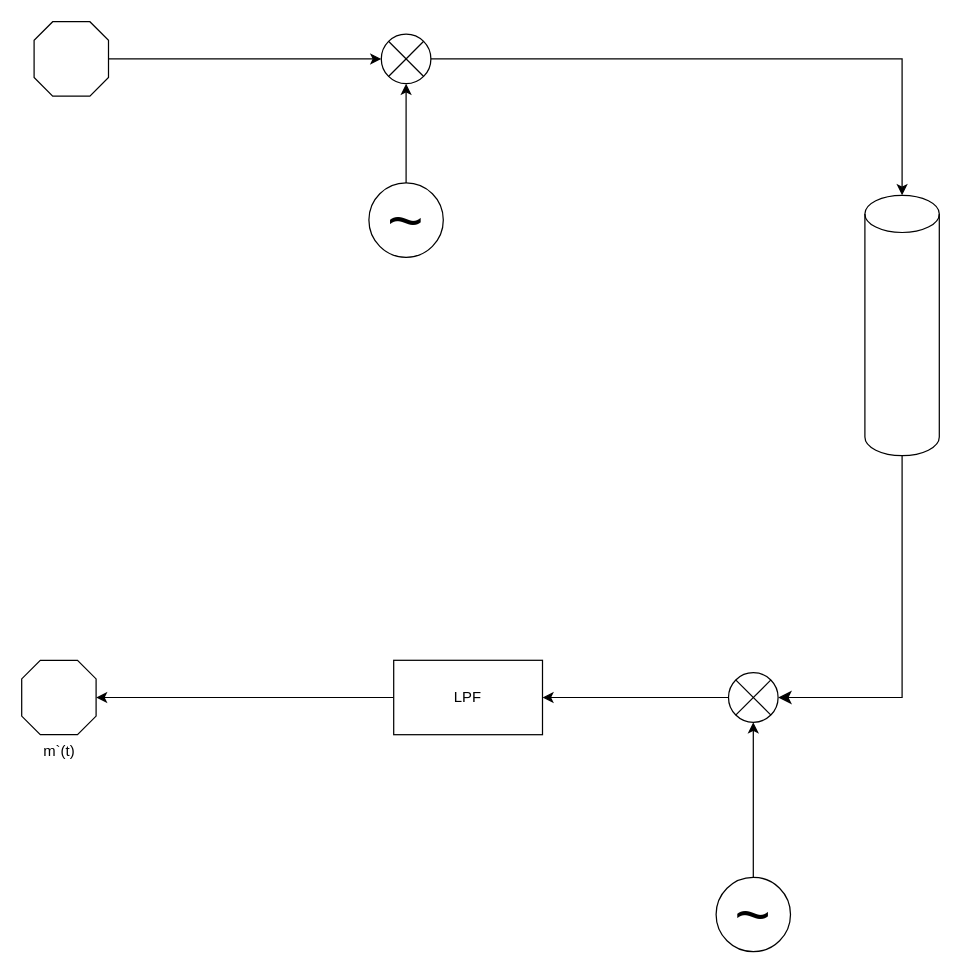
This 961x973 diagram has some shape labels left out. The shapes that lost their labels are listed below. From the top down, each one's centre as x and y in pixels, then its label:
At point (70, 58): "m(t)".
At point (901, 325): "channel".
